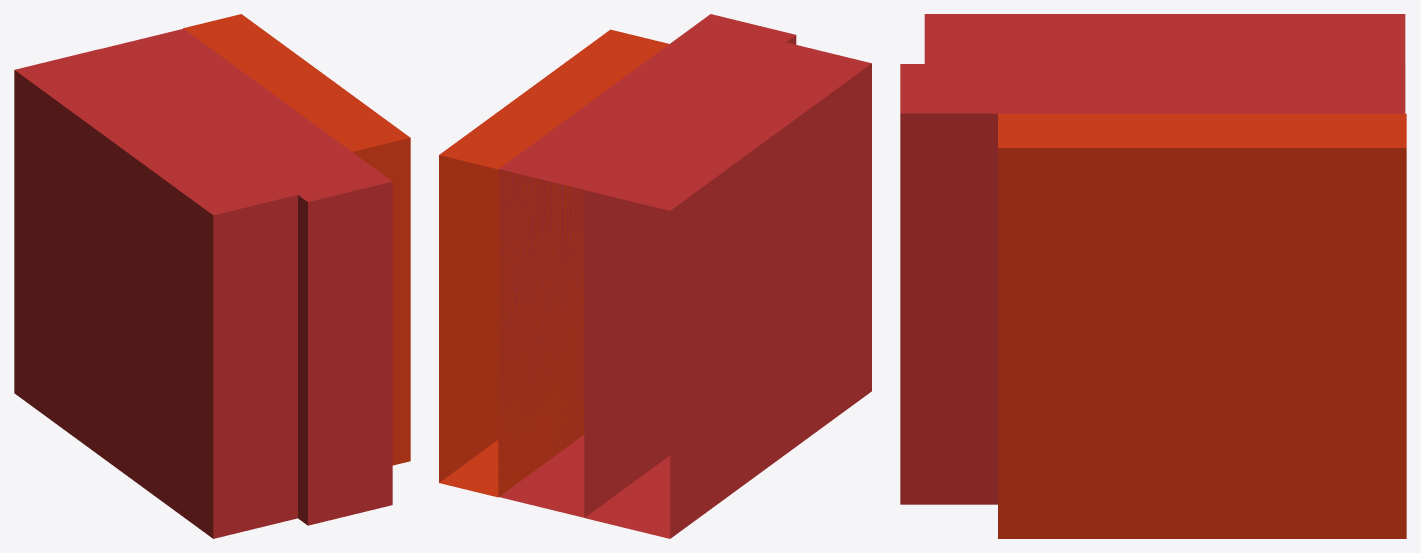
The model's file is RG_Dungeon_Books-02.fbx.
The picture shows the model from 3 angles, left to right: view 1: azimuth 30°, elevation 25°; view 2: azimuth 150°, elevation 25°; view 3: azimuth 270°, elevation 25°; orthographic projection. The views are drawn at different scales.
Visible parts, largest first — view 1: RG_Dungeon_Books-02; view 2: RG_Dungeon_Books-02; view 3: RG_Dungeon_Books-02.
Boxes of the visible parts, x1,y1,x2,y2 form: RG_Dungeon_Books-02: (14,14,410,538); RG_Dungeon_Books-02: (439,14,871,538); RG_Dungeon_Books-02: (900,14,1406,538).
Bounding box in the file's own units: 1.2 × 1.63 × 1.91.
